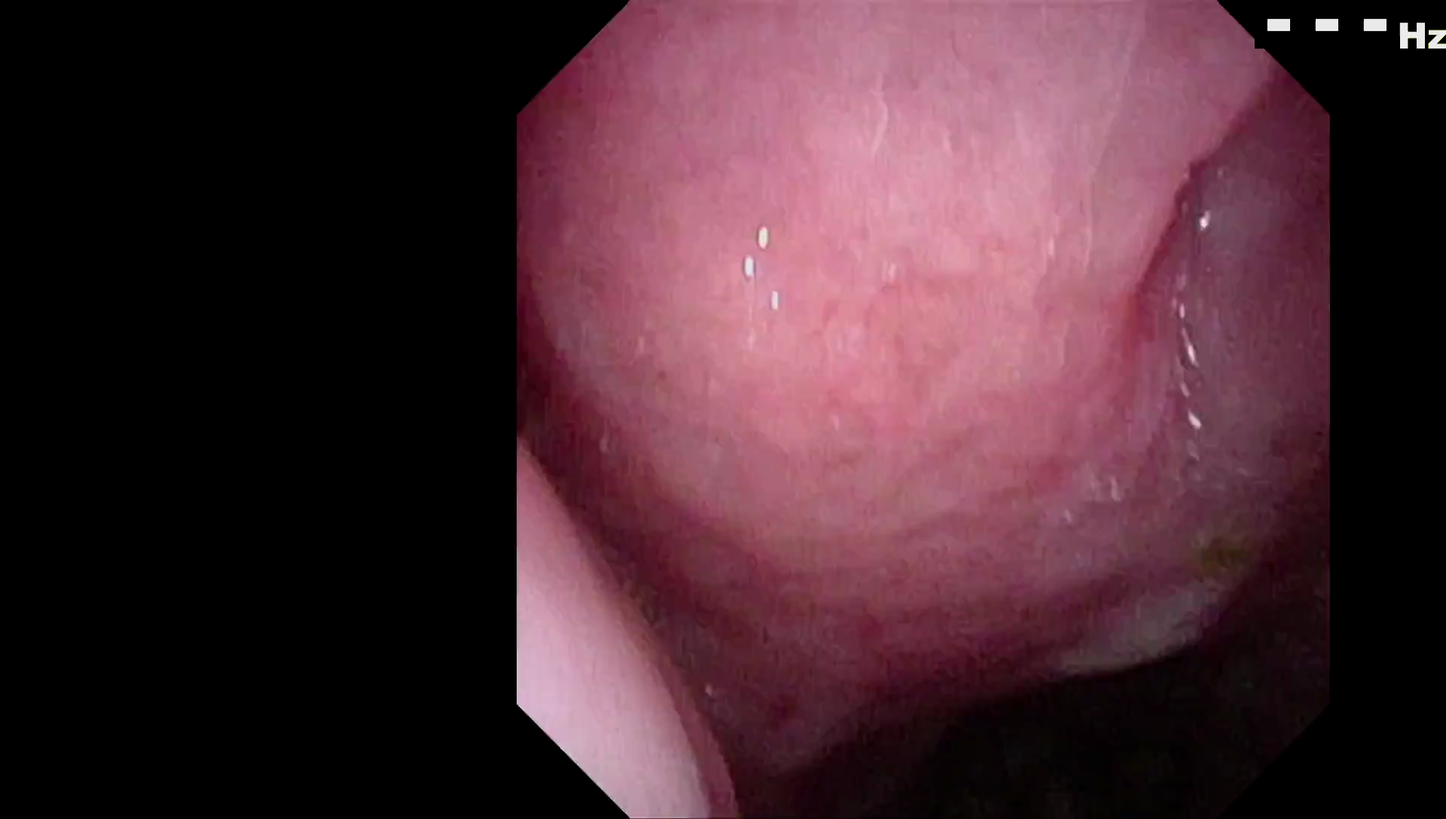close_wall: (524, 453, 739, 819)
next: (706, 589, 1306, 819)
